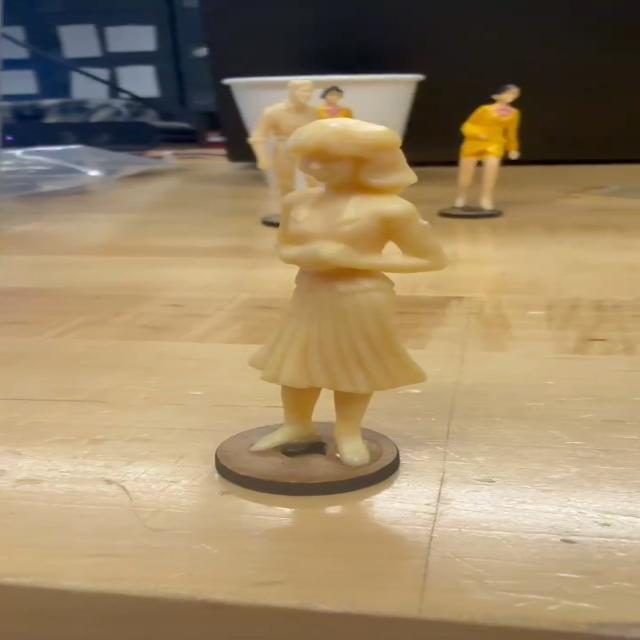Unauthorized: (267, 119, 412, 504)
